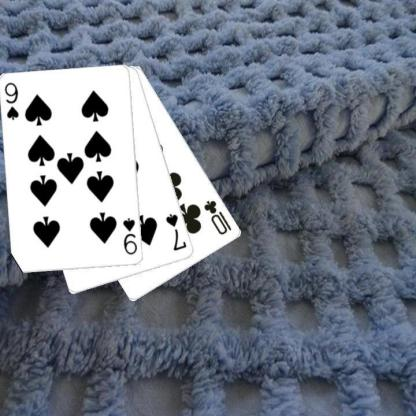10C: (202, 198, 233, 236)
7S: (164, 212, 188, 252)
9S: (2, 80, 20, 122), (121, 216, 138, 256)
